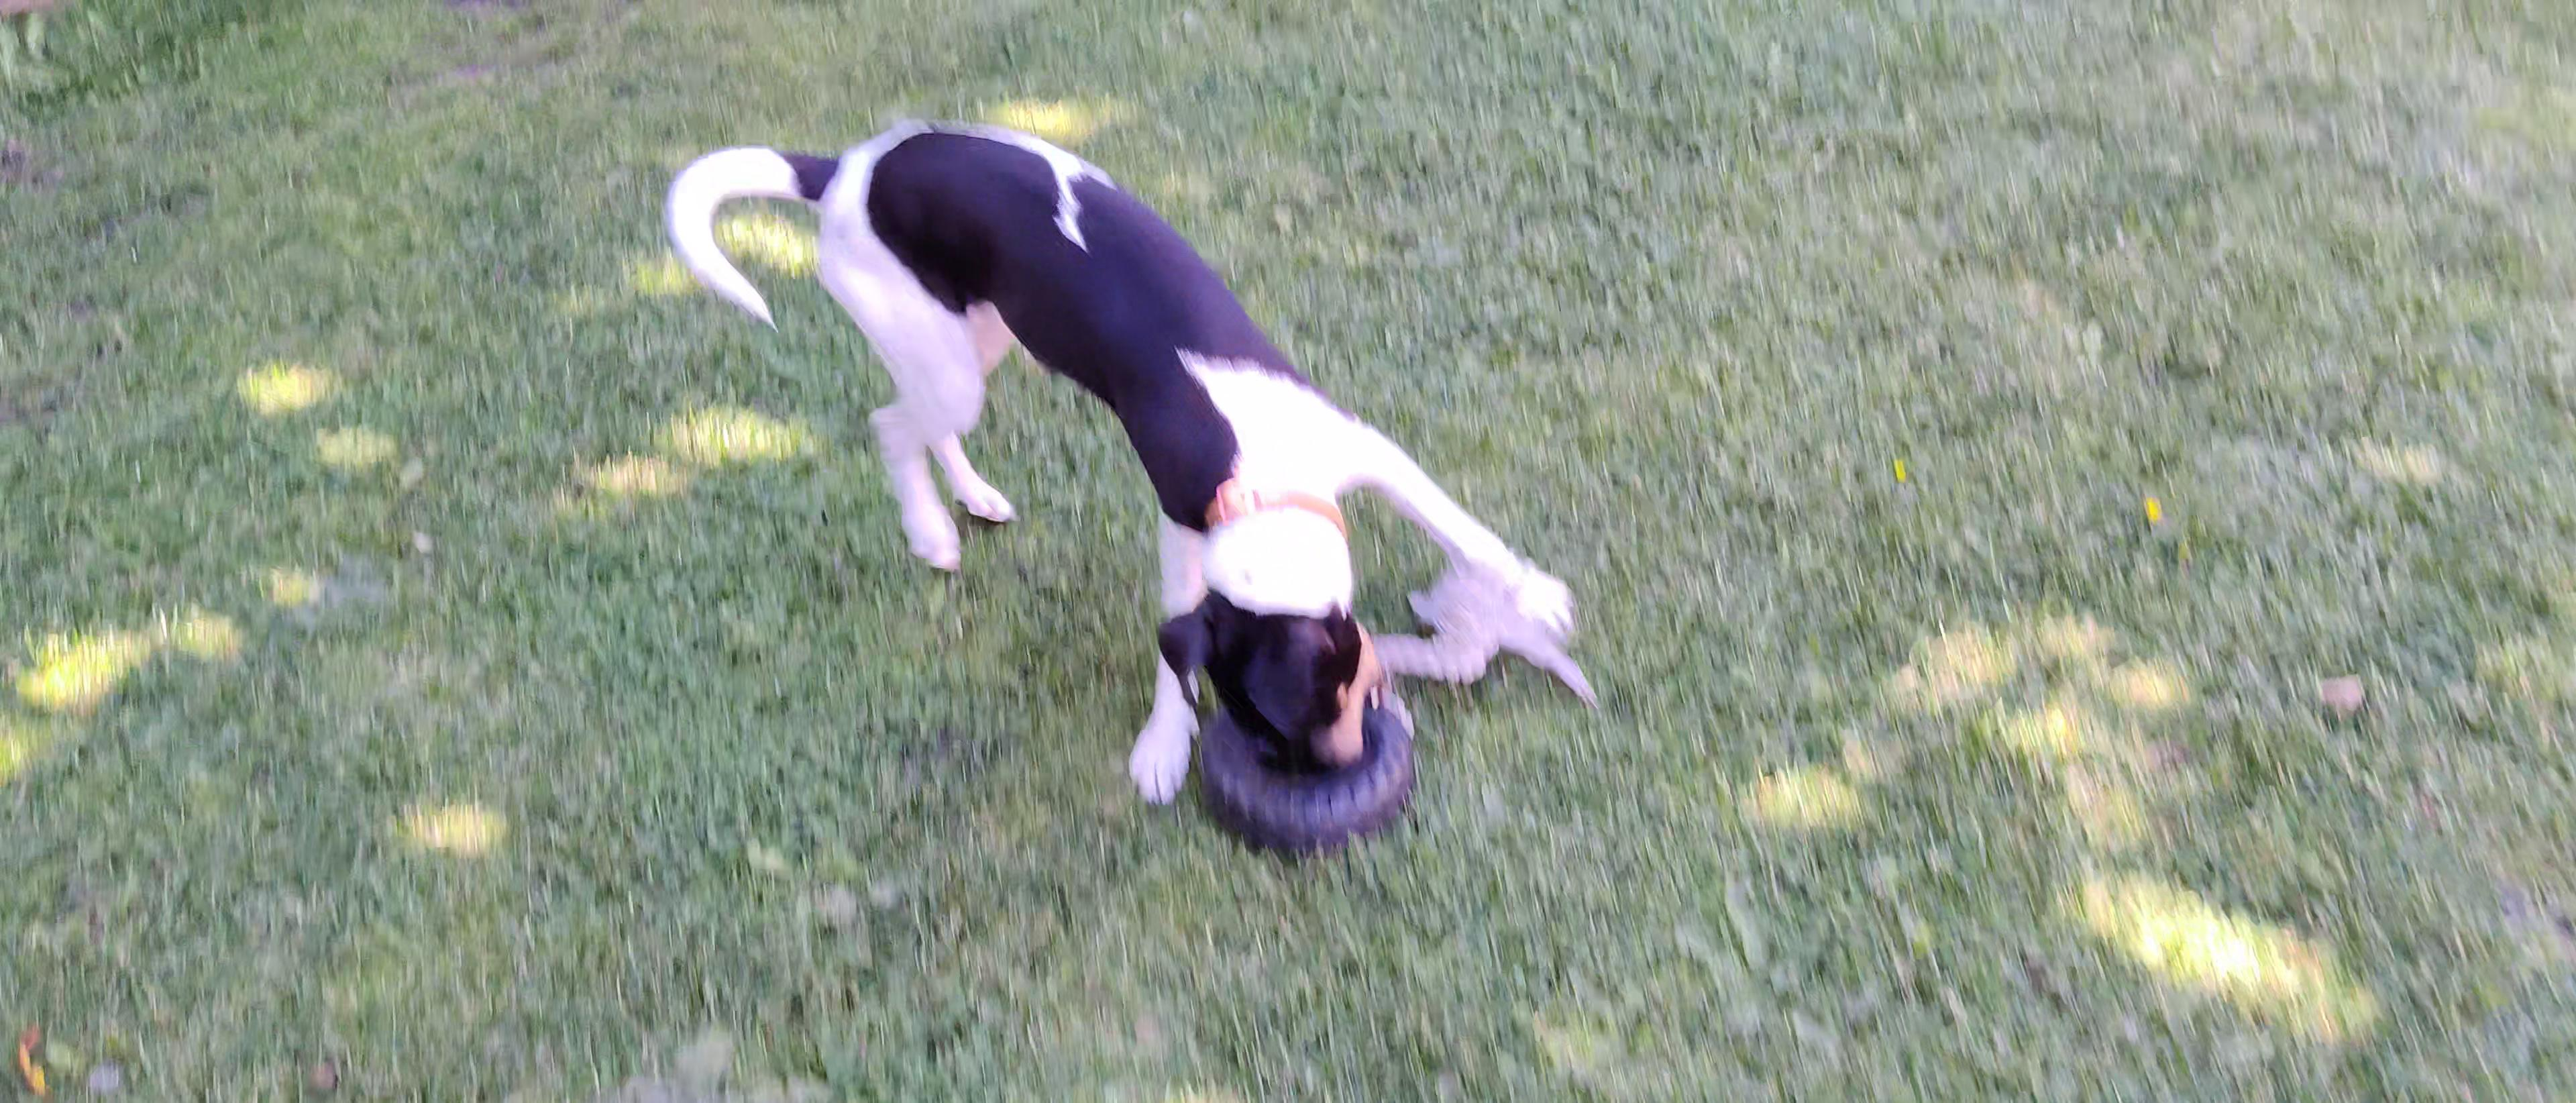Dog: (639, 85, 1602, 822)
